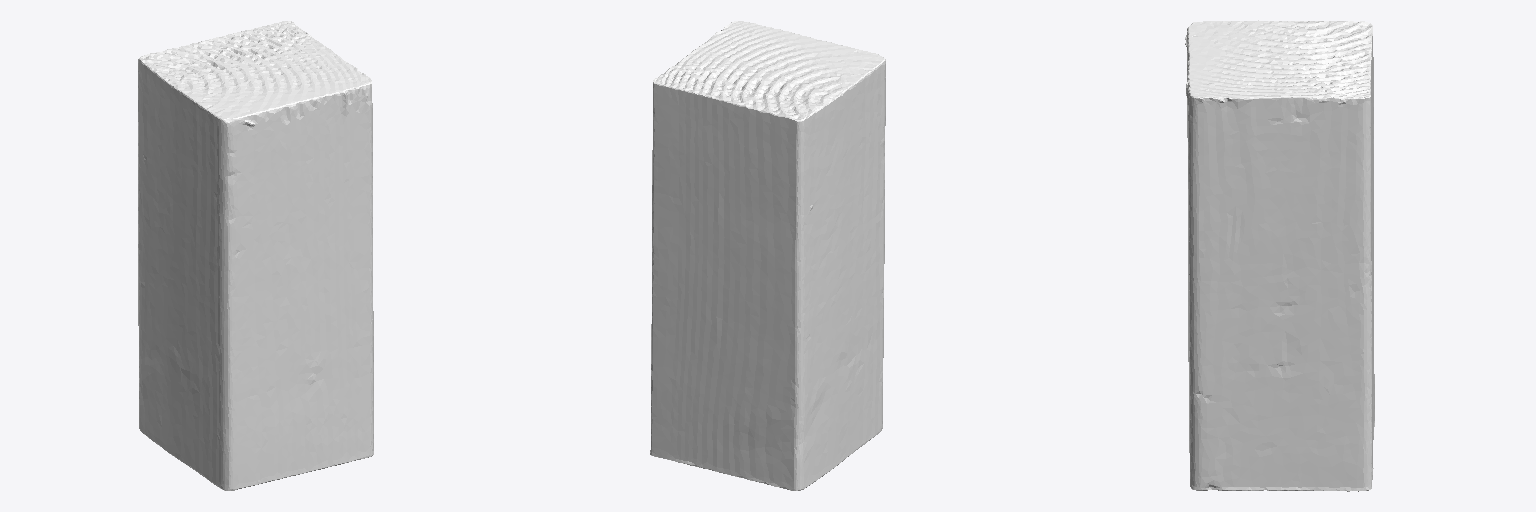
The robot description file, URDF, robot "chain":
<robot name="chain">
	<link name="base_link">
		<visual>
			<origin xyz="0.034274940120650695 -0.018175325943306266 -0.009010247611937368" rpy="0.0 0.0 0.0" />
			<geometry>
				<mesh filename="059_chain/google_16k/textured.obj" scale="1 1 1" />
			</geometry>
			<material name="texture">
				<color rgba="1.0 1.0 1.0 1.0" />
			</material>
		</visual>
		<collision>
			<origin xyz="0.034274940120650695 -0.018175325943306266 -0.009010247611937368" rpy="0.0 0.0 0.0" />
			<geometry>
				<mesh filename="059_chain/google_16k/textured_vhacd.obj" scale="1 1 1" />
			</geometry>
		</collision>
		<inertial>
			<mass value="0.1" />
			<inertia ixx="1e-3" ixy="0.0" ixz="0.0" iyy="1e-3" iyz="0.0" izz="1e-3" />
		</inertial>
	</link>
</robot>

--- Facts derived from the render (not from the file) ---
3 views of the same robot in one strip: view 1: azimuth 30°, elevation 25°; view 2: azimuth 150°, elevation 25°; view 3: azimuth 270°, elevation 25° (orthographic).
Robot: chain — 1 links, 0 joints (none); root link base_link; default pose: every joint at zero.
Visible links, largest first — view 1: base_link; view 2: base_link; view 3: base_link.
Boxes of the visible links, <box> form: base_link: <box>138,21,373,490</box>; base_link: <box>650,21,885,490</box>; base_link: <box>1185,20,1374,491</box>.
Bounding box of the posed robot: 0.0906 × 0.0899 × 0.206 m (x, y, z).
1 mesh visuals loaded from 1 distinct referenced files (1 OBJ).